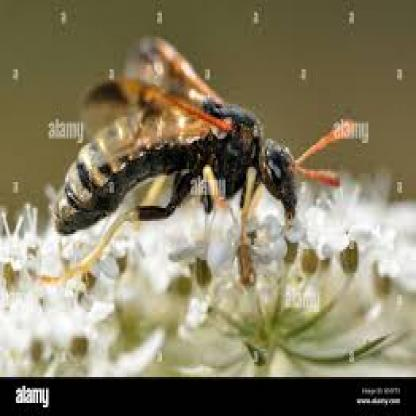sawfly: (29, 25, 358, 285)
